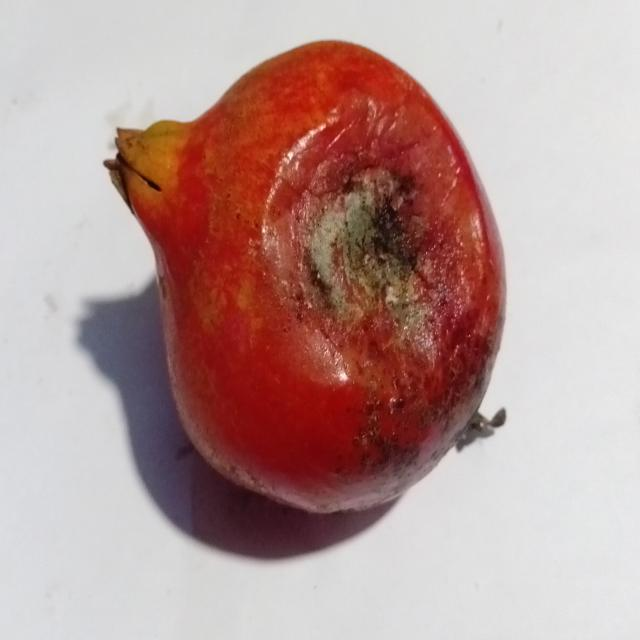Rotten: (102, 36, 510, 520)
